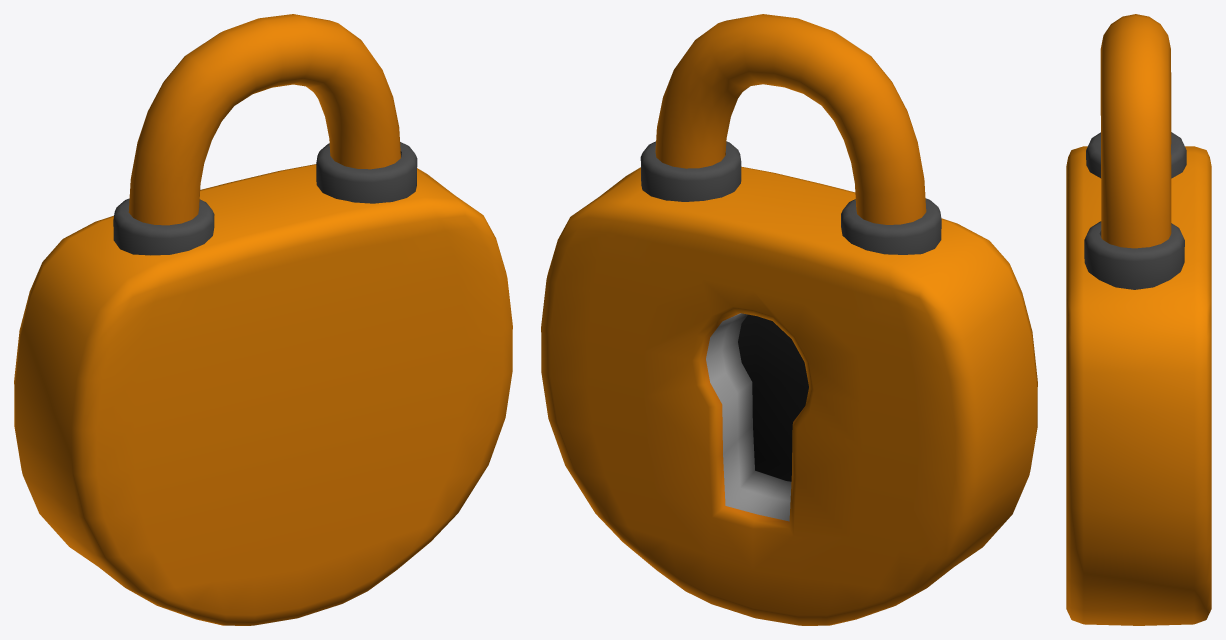
File: Lock_V3_0.fbx
The picture shows the model from 3 angles, left to right: view 1: azimuth 30°, elevation 25°; view 2: azimuth 150°, elevation 25°; view 3: azimuth 270°, elevation 25°; orthographic projection.
Parts seen in each view (by area): view 1: Lock_V3_0, Lock_V3_1; view 2: Lock_V3_0, Lock_V3_1; view 3: Lock_V3_0, Lock_V3_1.
Boxes of the visible parts, bbox=[...] form: Lock_V3_0: bbox=[14, 142, 512, 625]; Lock_V3_1: bbox=[113, 14, 400, 255]; Lock_V3_0: bbox=[541, 141, 1037, 625]; Lock_V3_1: bbox=[655, 14, 941, 254]; Lock_V3_0: bbox=[1066, 146, 1211, 625]; Lock_V3_1: bbox=[1086, 14, 1186, 248].
Size of the model in its own units: 0.3765 by 0.4743 by 0.1088.
Materials: 1 (1 with a texture image).
